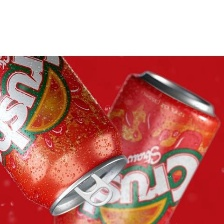can: (52, 67, 222, 224), (0, 56, 129, 217)
